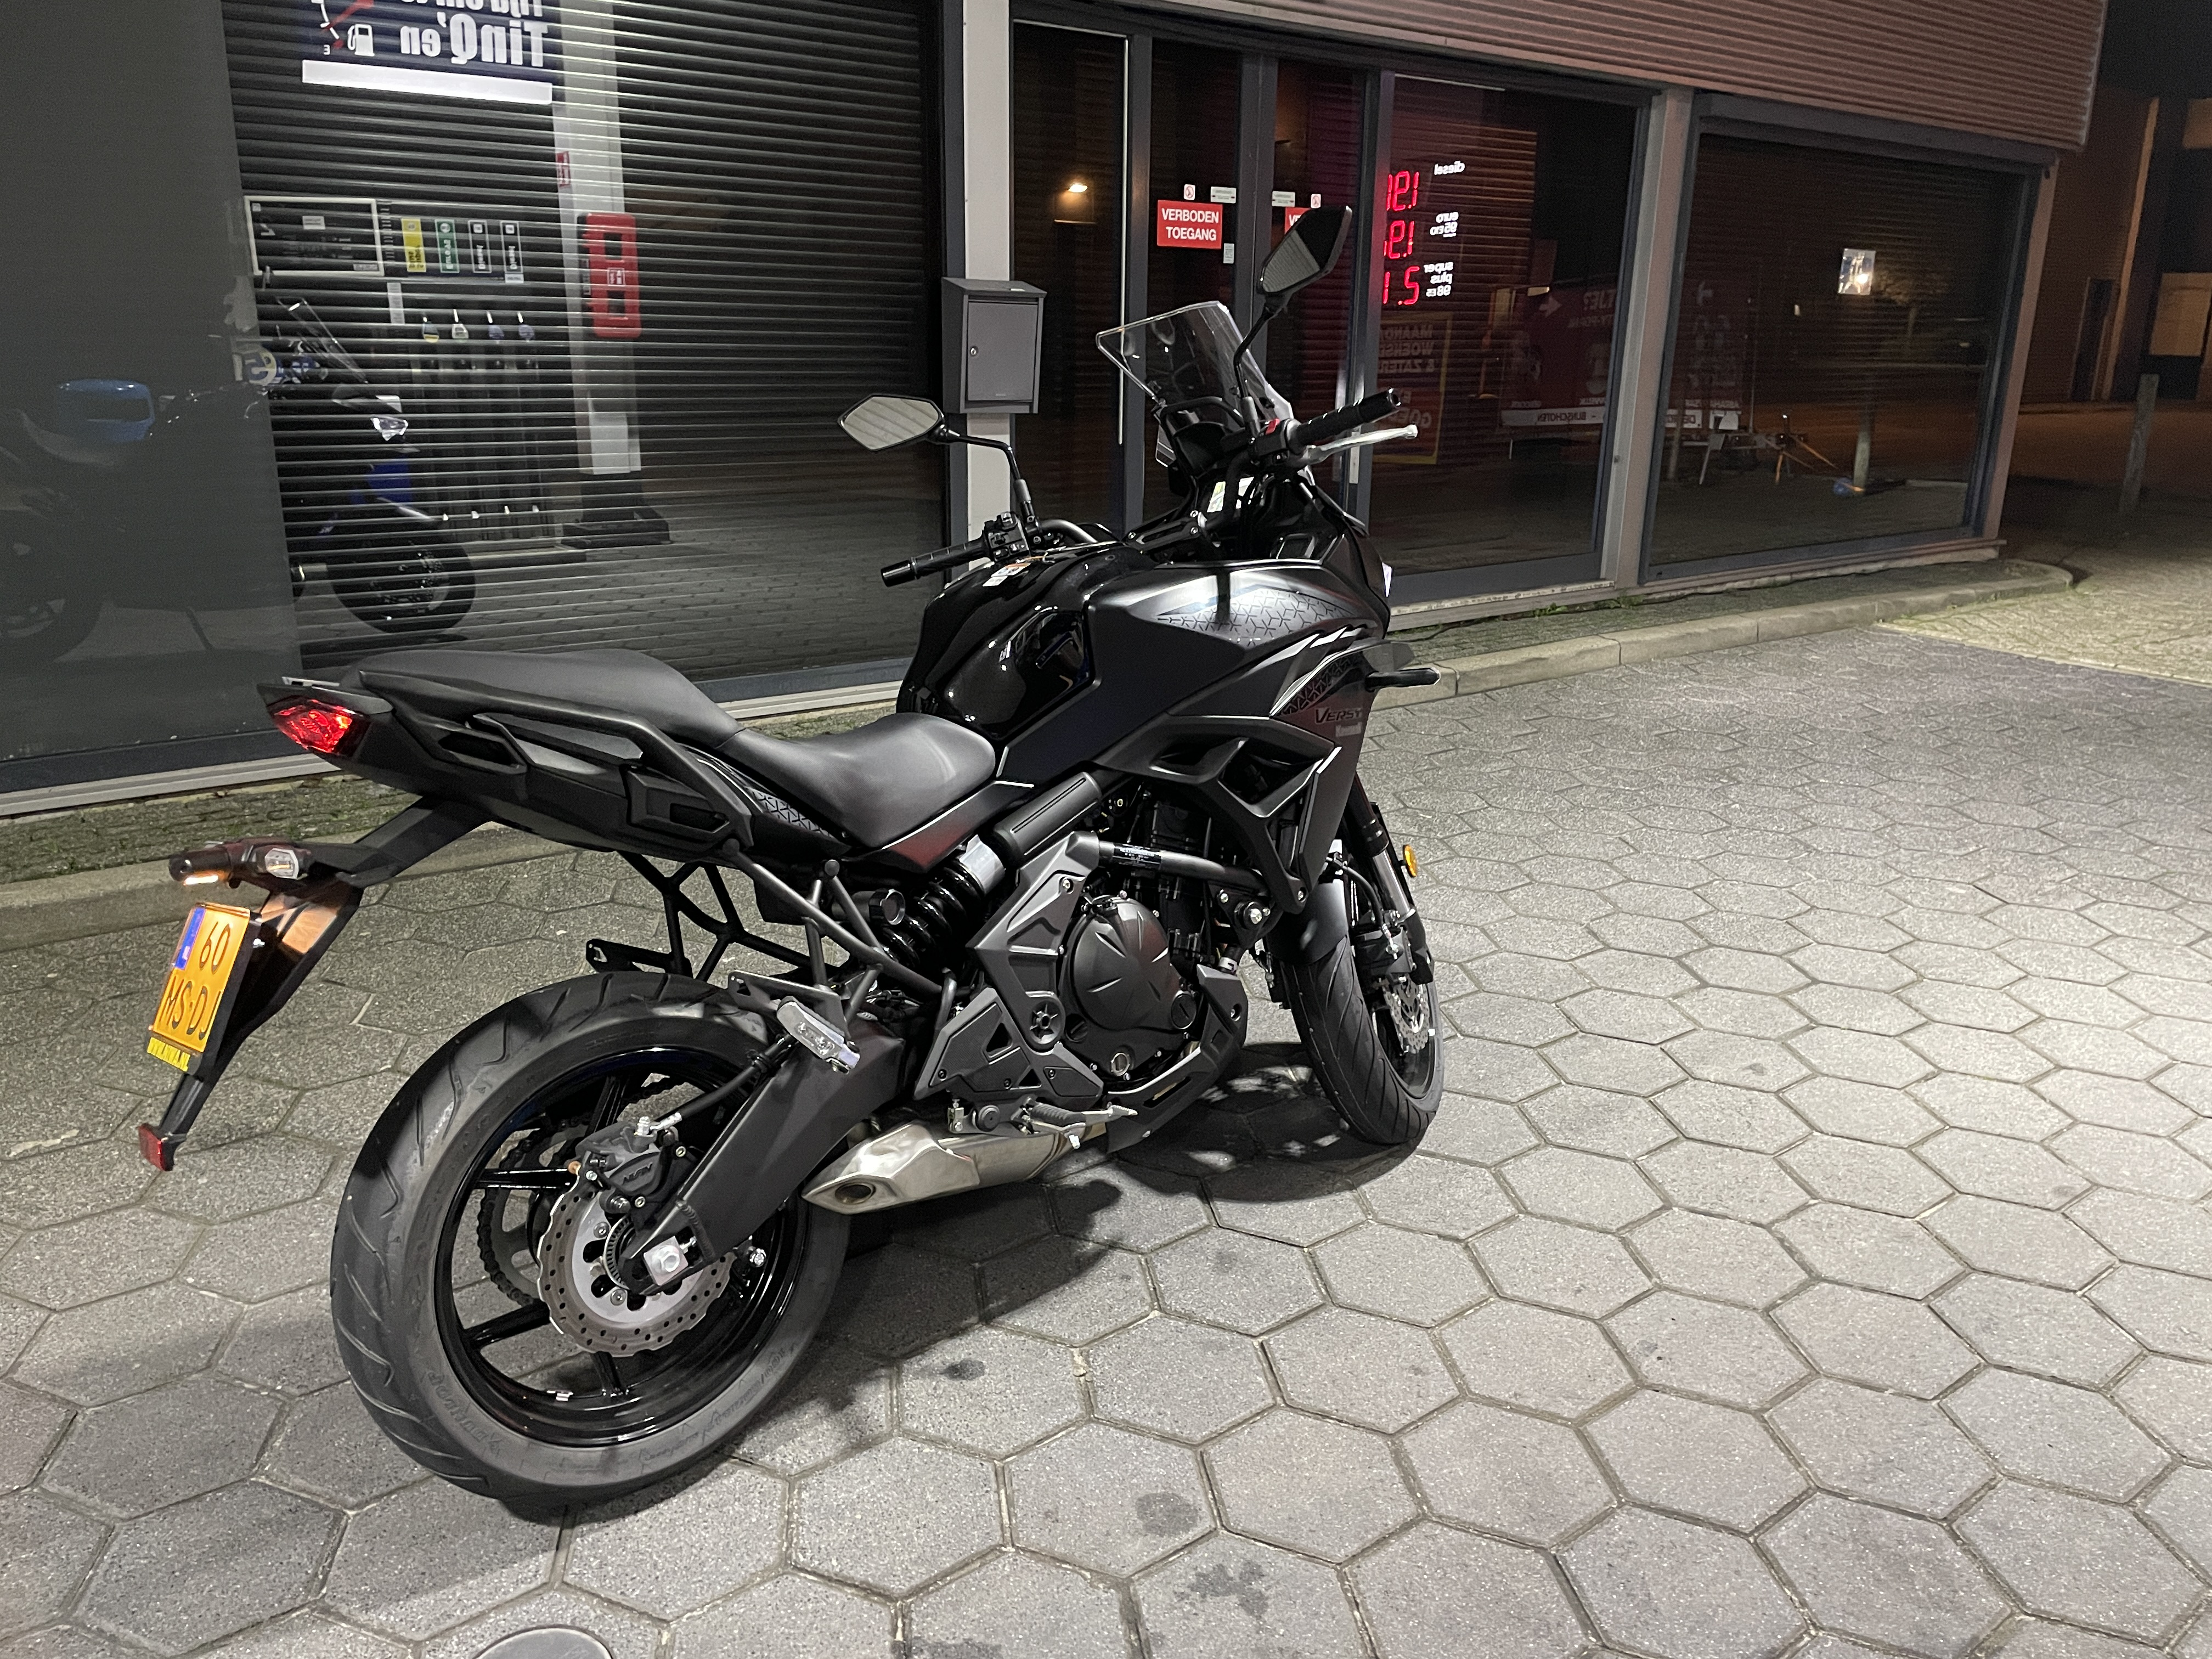motorcycle: (157, 261, 1446, 1518)
